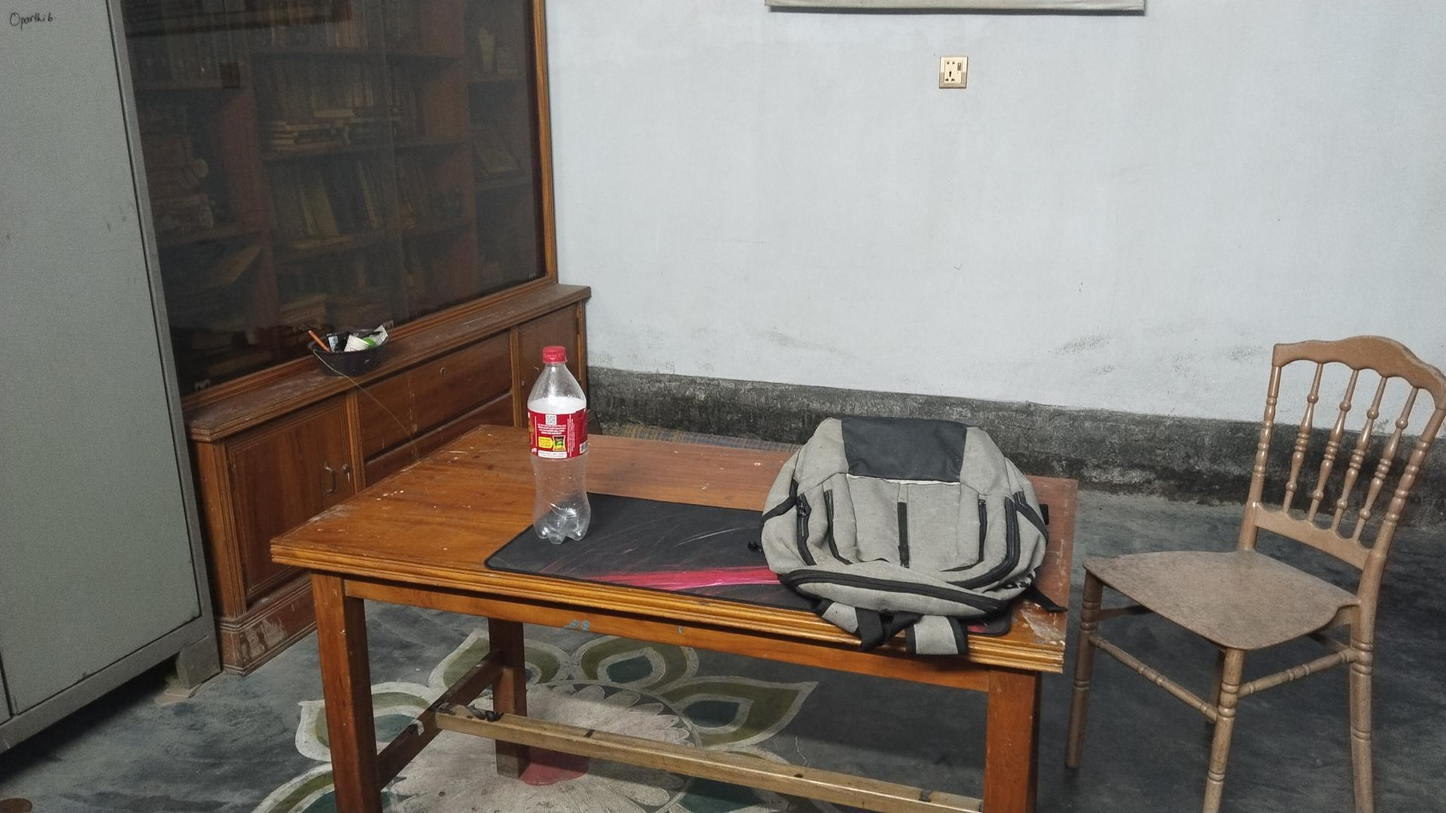Bag: (772, 412, 1050, 625)
Bottle: (527, 342, 593, 541)
Chair: (1089, 327, 1446, 813)
Table: (266, 431, 1077, 813)
